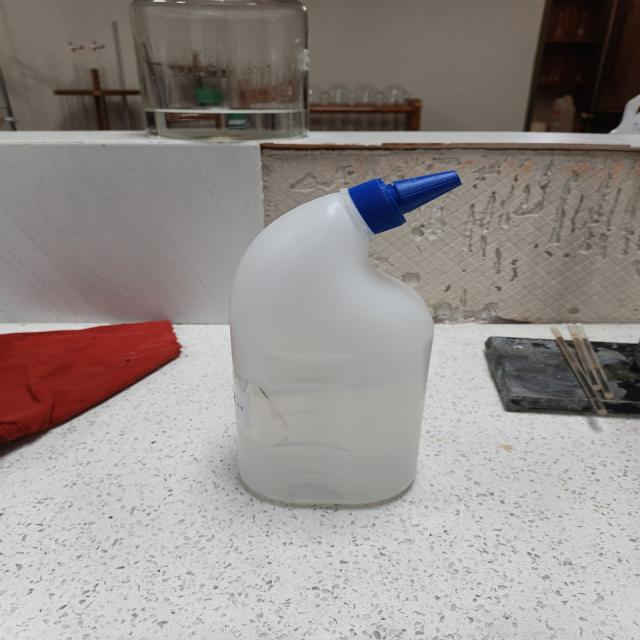Agua Destilada Desmineralizada: (230, 172, 459, 504)
